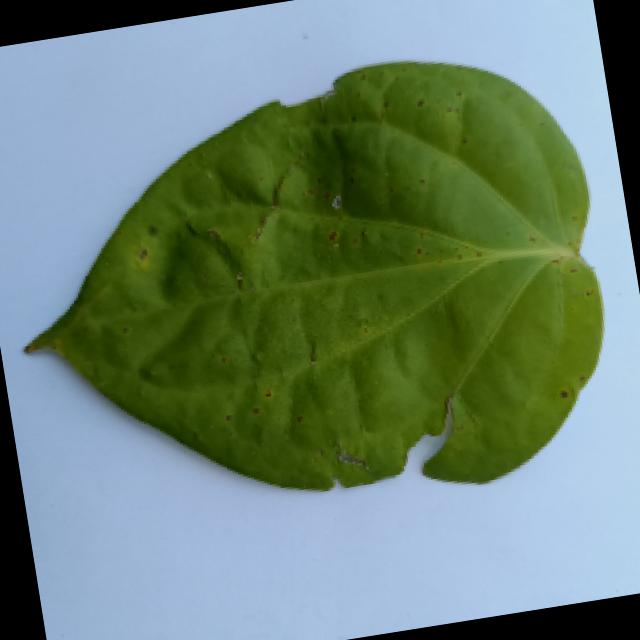slow-decline: (0, 36, 627, 551)
